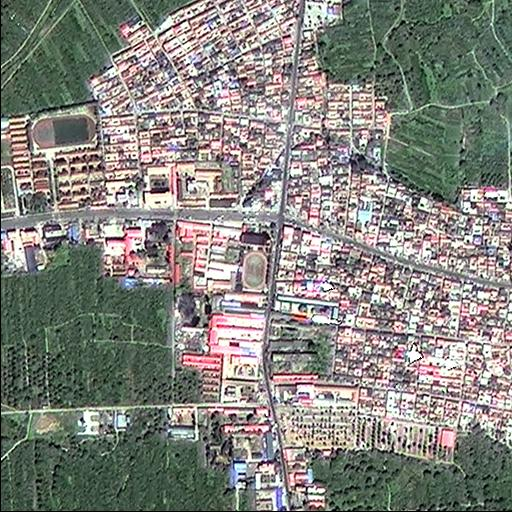school: (4, 97, 109, 217), (235, 219, 274, 295)
